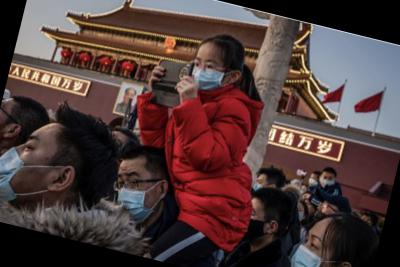mask_weared_incorrect: (311, 199, 337, 227)
with_mask: (105, 166, 166, 227), (286, 226, 346, 267), (185, 51, 233, 98), (241, 199, 275, 245), (253, 174, 272, 195), (316, 173, 336, 188), (307, 173, 318, 187)
